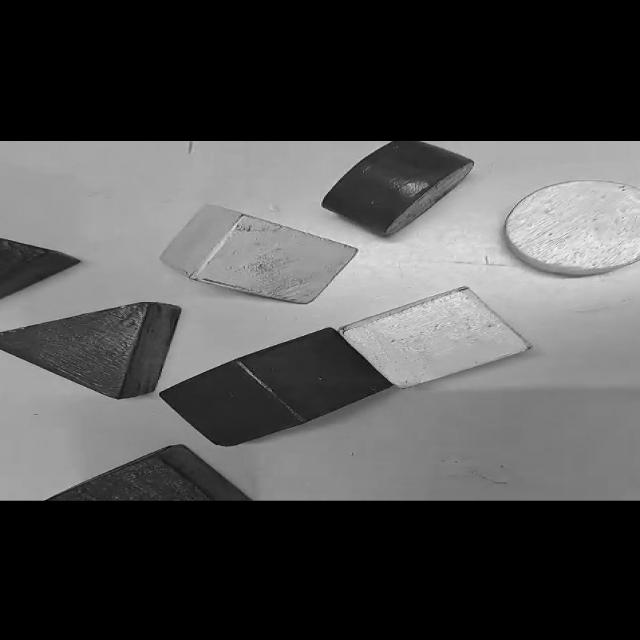rcircle: (323, 141, 473, 236)
rcube: (161, 328, 391, 446)
rtriangle: (0, 302, 179, 398)
ycircle: (505, 180, 639, 276)
ycube: (339, 287, 530, 388)
ytriangle: (162, 204, 356, 303)
